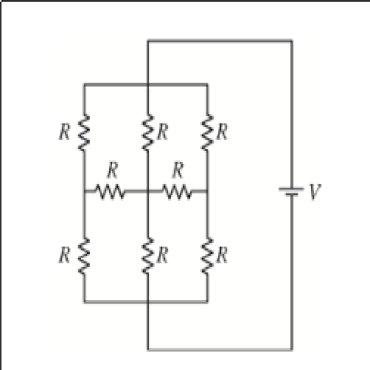Resistor: (57, 237, 96, 279), (57, 113, 94, 154), (138, 233, 171, 277), (198, 111, 230, 155), (199, 233, 230, 278), (94, 161, 126, 202), (162, 160, 192, 203), (140, 113, 170, 153)
Voltage Source: (276, 180, 324, 209)
